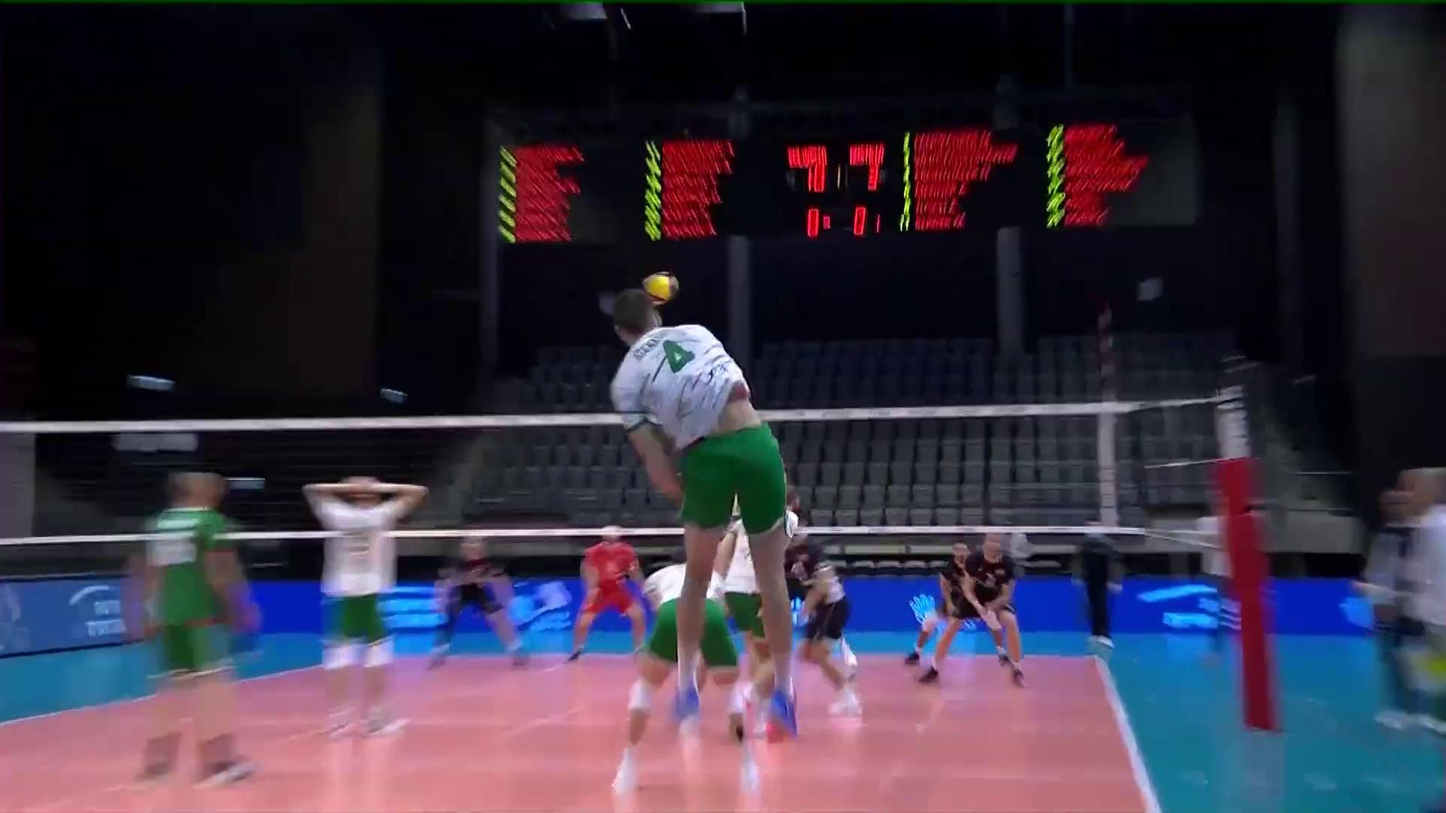ball: (641, 270, 682, 307)
